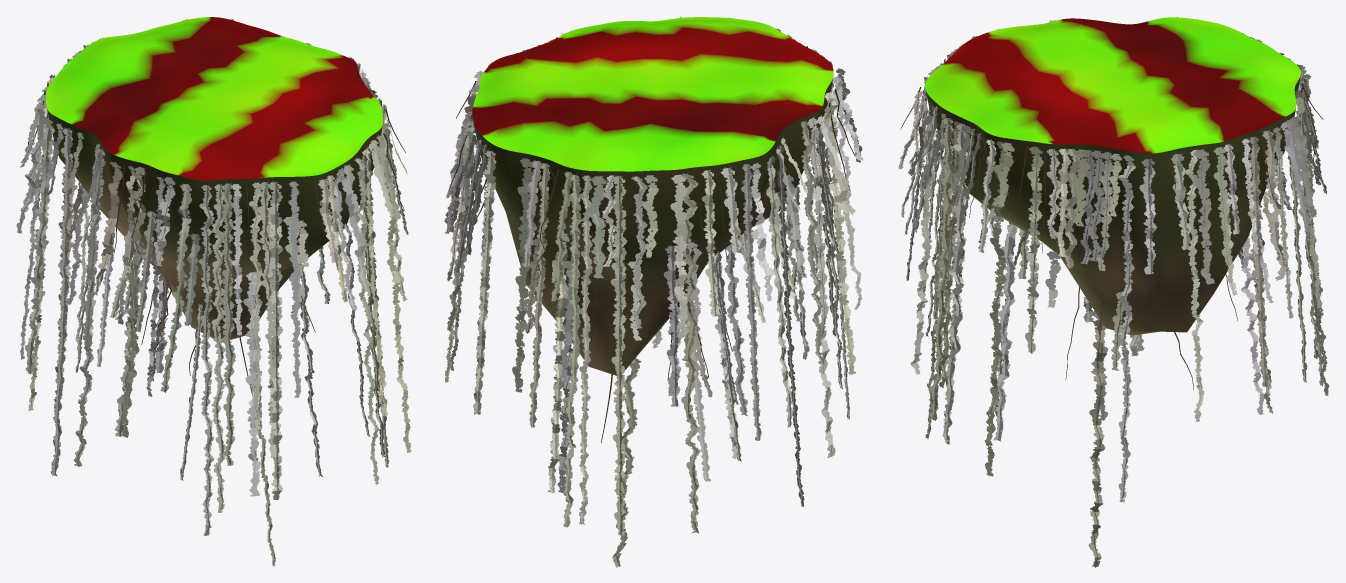
The model's file is SM_H07_Floater02.fbx.
The picture shows the model from 3 angles, left to right: view 1: azimuth 30°, elevation 25°; view 2: azimuth 150°, elevation 25°; view 3: azimuth 270°, elevation 25°; orthographic projection. The views are drawn at different scales.
Visible parts, largest first — view 1: SM_H07_Floater02_Ivy, SM_H07_Floater02; view 2: SM_H07_Floater02, SM_H07_Floater02_Ivy; view 3: SM_H07_Floater02, SM_H07_Floater02_Ivy.
Part boxes in pixels (x1=…): SM_H07_Floater02_Ivy: x1=16, y1=19, x2=411, y2=566; SM_H07_Floater02: x1=46, y1=17, x2=382, y2=342; SM_H07_Floater02: x1=472, y1=17, x2=833, y2=375; SM_H07_Floater02_Ivy: x1=444, y1=17, x2=863, y2=567; SM_H07_Floater02: x1=925, y1=17, x2=1300, y2=335; SM_H07_Floater02_Ivy: x1=898, y1=16, x2=1329, y2=567.
Bounding box in the file's own units: 30.1 × 41.09 × 34.33.
